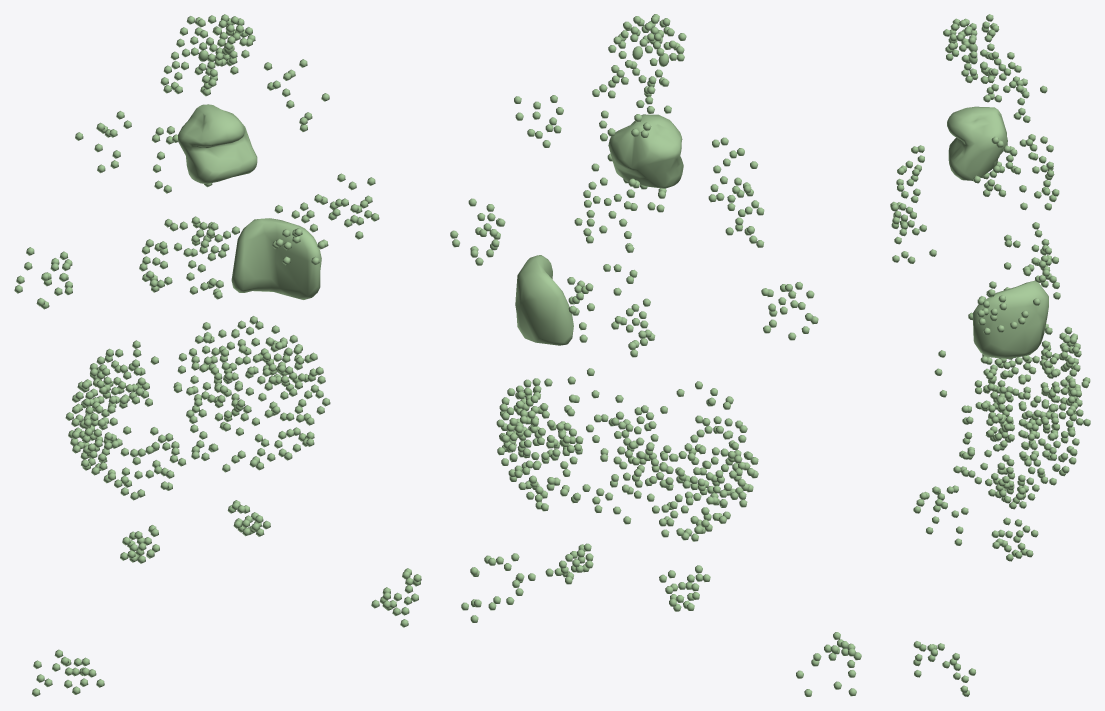
Rendered from pediatric_neonate_female.lymphatic.LOD1.glb.
3 renders of one model, left to right at view 1: azimuth 30°, elevation 25°; view 2: azimuth 150°, elevation 25°; view 3: azimuth 270°, elevation 25°, orthographic. The views are drawn at different scales.
Parts seen in each view (by area): view 1: PEDIATRIC.NEONATE.FEMALE.LYMPHATIC.LYMPHATIC_NODES_TRUNK, PEDIATRIC.NEONATE.FEMALE.LYMPHATIC.SPLEEN, PEDIATRIC.NEONATE.FEMALE.LYMPHATIC.THYMUS, PEDIATRIC.NEONATE.FEMALE.LYMPHATIC.LYMPHATIC_NODES_ET, PEDIATRIC.NEONATE.FEMALE.LYMPHATIC.LYMPHATIC_NODES_THORACIC, PEDIATRIC.NEONATE.FEMALE.LYMPHATIC.LYMPHATIC_NODES_LEGS, PEDIATRIC.NEONATE.FEMALE.LYMPHATIC.LYMPHATIC_NODES_ARMS, PEDIATRIC.NEONATE.FEMALE.LYMPHATIC.LYMPHATIC_NODES_HEAD; view 2: PEDIATRIC.NEONATE.FEMALE.LYMPHATIC.LYMPHATIC_NODES_TRUNK, PEDIATRIC.NEONATE.FEMALE.LYMPHATIC.THYMUS, PEDIATRIC.NEONATE.FEMALE.LYMPHATIC.SPLEEN, PEDIATRIC.NEONATE.FEMALE.LYMPHATIC.LYMPHATIC_NODES_THORACIC, PEDIATRIC.NEONATE.FEMALE.LYMPHATIC.LYMPHATIC_NODES_ET, PEDIATRIC.NEONATE.FEMALE.LYMPHATIC.LYMPHATIC_NODES_ARMS, PEDIATRIC.NEONATE.FEMALE.LYMPHATIC.LYMPHATIC_NODES_LEGS, PEDIATRIC.NEONATE.FEMALE.LYMPHATIC.LYMPHATIC_NODES_HEAD; view 3: PEDIATRIC.NEONATE.FEMALE.LYMPHATIC.LYMPHATIC_NODES_TRUNK, PEDIATRIC.NEONATE.FEMALE.LYMPHATIC.SPLEEN, PEDIATRIC.NEONATE.FEMALE.LYMPHATIC.THYMUS, PEDIATRIC.NEONATE.FEMALE.LYMPHATIC.LYMPHATIC_NODES_THORACIC, PEDIATRIC.NEONATE.FEMALE.LYMPHATIC.LYMPHATIC_NODES_ET, PEDIATRIC.NEONATE.FEMALE.LYMPHATIC.LYMPHATIC_NODES_LEGS, PEDIATRIC.NEONATE.FEMALE.LYMPHATIC.LYMPHATIC_NODES_ARMS, PEDIATRIC.NEONATE.FEMALE.LYMPHATIC.LYMPHATIC_NODES_HEAD.
Boxes of the visible parts, box(x1,y1,x2,y2) form: PEDIATRIC.NEONATE.FEMALE.LYMPHATIC.LYMPHATIC_NODES_TRUNK: box(65, 59, 330, 563); PEDIATRIC.NEONATE.FEMALE.LYMPHATIC.SPLEEN: box(231, 218, 321, 299); PEDIATRIC.NEONATE.FEMALE.LYMPHATIC.THYMUS: box(178, 104, 257, 183); PEDIATRIC.NEONATE.FEMALE.LYMPHATIC.LYMPHATIC_NODES_ET: box(176, 14, 255, 87); PEDIATRIC.NEONATE.FEMALE.LYMPHATIC.LYMPHATIC_NODES_THORACIC: box(139, 126, 239, 299); PEDIATRIC.NEONATE.FEMALE.LYMPHATIC.LYMPHATIC_NODES_LEGS: box(32, 568, 421, 696); PEDIATRIC.NEONATE.FEMALE.LYMPHATIC.LYMPHATIC_NODES_ARMS: box(14, 173, 379, 309); PEDIATRIC.NEONATE.FEMALE.LYMPHATIC.LYMPHATIC_NODES_HEAD: box(160, 44, 231, 96); PEDIATRIC.NEONATE.FEMALE.LYMPHATIC.LYMPHATIC_NODES_TRUNK: box(496, 95, 764, 611); PEDIATRIC.NEONATE.FEMALE.LYMPHATIC.THYMUS: box(608, 114, 683, 188); PEDIATRIC.NEONATE.FEMALE.LYMPHATIC.SPLEEN: box(515, 255, 573, 345); PEDIATRIC.NEONATE.FEMALE.LYMPHATIC.LYMPHATIC_NODES_THORACIC: box(567, 177, 655, 357); PEDIATRIC.NEONATE.FEMALE.LYMPHATIC.LYMPHATIC_NODES_ET: box(608, 14, 686, 94); PEDIATRIC.NEONATE.FEMALE.LYMPHATIC.LYMPHATIC_NODES_ARMS: box(450, 198, 818, 340); PEDIATRIC.NEONATE.FEMALE.LYMPHATIC.LYMPHATIC_NODES_LEGS: box(461, 553, 861, 696); PEDIATRIC.NEONATE.FEMALE.LYMPHATIC.LYMPHATIC_NODES_HEAD: box(592, 75, 671, 141); PEDIATRIC.NEONATE.FEMALE.LYMPHATIC.LYMPHATIC_NODES_TRUNK: box(890, 58, 1090, 561); PEDIATRIC.NEONATE.FEMALE.LYMPHATIC.SPLEEN: box(972, 280, 1048, 358); PEDIATRIC.NEONATE.FEMALE.LYMPHATIC.THYMUS: box(947, 106, 1007, 180); PEDIATRIC.NEONATE.FEMALE.LYMPHATIC.LYMPHATIC_NODES_THORACIC: box(1003, 134, 1060, 299); PEDIATRIC.NEONATE.FEMALE.LYMPHATIC.LYMPHATIC_NODES_ET: box(943, 14, 999, 83); PEDIATRIC.NEONATE.FEMALE.LYMPHATIC.LYMPHATIC_NODES_LEGS: box(913, 485, 975, 696); PEDIATRIC.NEONATE.FEMALE.LYMPHATIC.LYMPHATIC_NODES_ARMS: box(977, 153, 1040, 335); PEDIATRIC.NEONATE.FEMALE.LYMPHATIC.LYMPHATIC_NODES_HEAD: box(980, 52, 1030, 122).
Bounding box in the file's own units: 0.1867 × 0.2969 × 0.0905.
